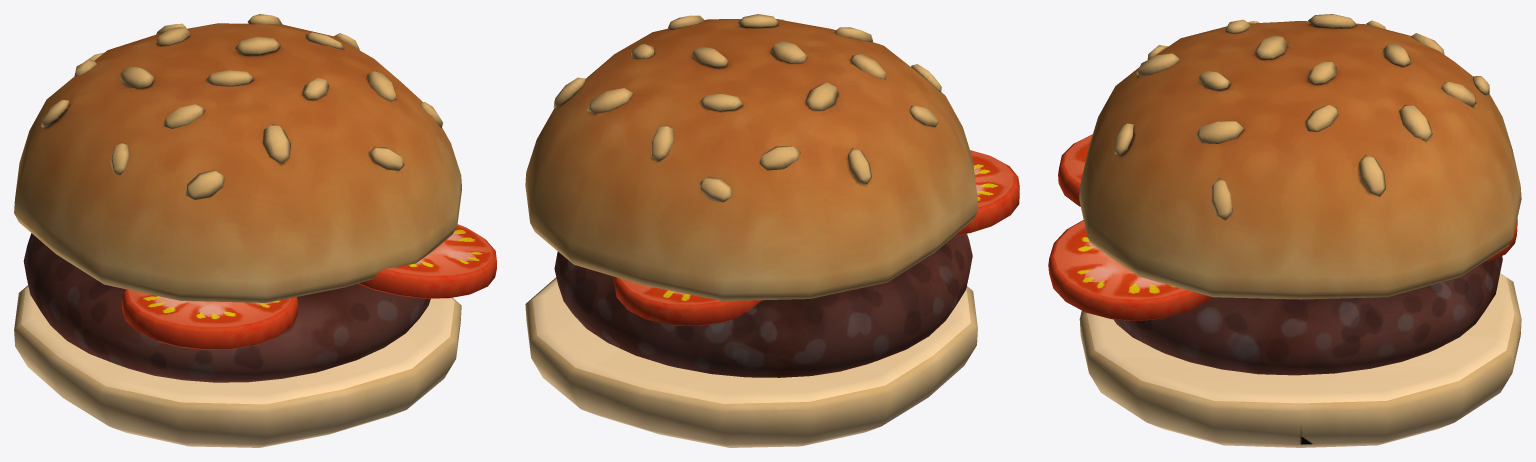
File: Tomato_plain_burger.fbx
3 renders of one model, left to right at view 1: azimuth 30°, elevation 25°; view 2: azimuth 150°, elevation 25°; view 3: azimuth 270°, elevation 25°, orthographic.
Visible parts, largest first — view 1: m_ingredients_bun_lid_01_0, m_ingredients_bun_base_01_0, m_recipe_cheese_lettuce_burger_01_0, m_recipe_lettuce_tomato_burger_01_0; view 2: m_ingredients_bun_lid_01_0, m_ingredients_bun_base_01_0, m_recipe_cheese_lettuce_burger_01_0, m_recipe_lettuce_tomato_burger_01_0; view 3: m_ingredients_bun_lid_01_0, m_ingredients_bun_base_01_0, m_recipe_cheese_lettuce_burger_01_0, m_recipe_lettuce_tomato_burger_01_0.
Part boxes in pixels (left/top/right/bottom): m_ingredients_bun_lid_01_0: left=14, top=14, right=461, bottom=302; m_ingredients_bun_base_01_0: left=14, top=285, right=461, bottom=447; m_recipe_cheese_lettuce_burger_01_0: left=23, top=233, right=430, bottom=382; m_recipe_lettuce_tomato_burger_01_0: left=121, top=224, right=496, bottom=349; m_ingredients_bun_lid_01_0: left=525, top=14, right=978, bottom=301; m_ingredients_bun_base_01_0: left=525, top=277, right=977, bottom=447; m_recipe_cheese_lettuce_burger_01_0: left=554, top=233, right=972, bottom=377; m_recipe_lettuce_tomato_burger_01_0: left=613, top=150, right=1019, bottom=325; m_ingredients_bun_lid_01_0: left=1079, top=14, right=1521, bottom=299; m_ingredients_bun_base_01_0: left=1079, top=273, right=1521, bottom=447; m_recipe_cheese_lettuce_burger_01_0: left=1113, top=256, right=1502, bottom=375; m_recipe_lettuce_tomato_burger_01_0: left=1048, top=134, right=1517, bottom=320.
Size of the model in its own units: 0.6178 by 0.4978 by 0.668.
